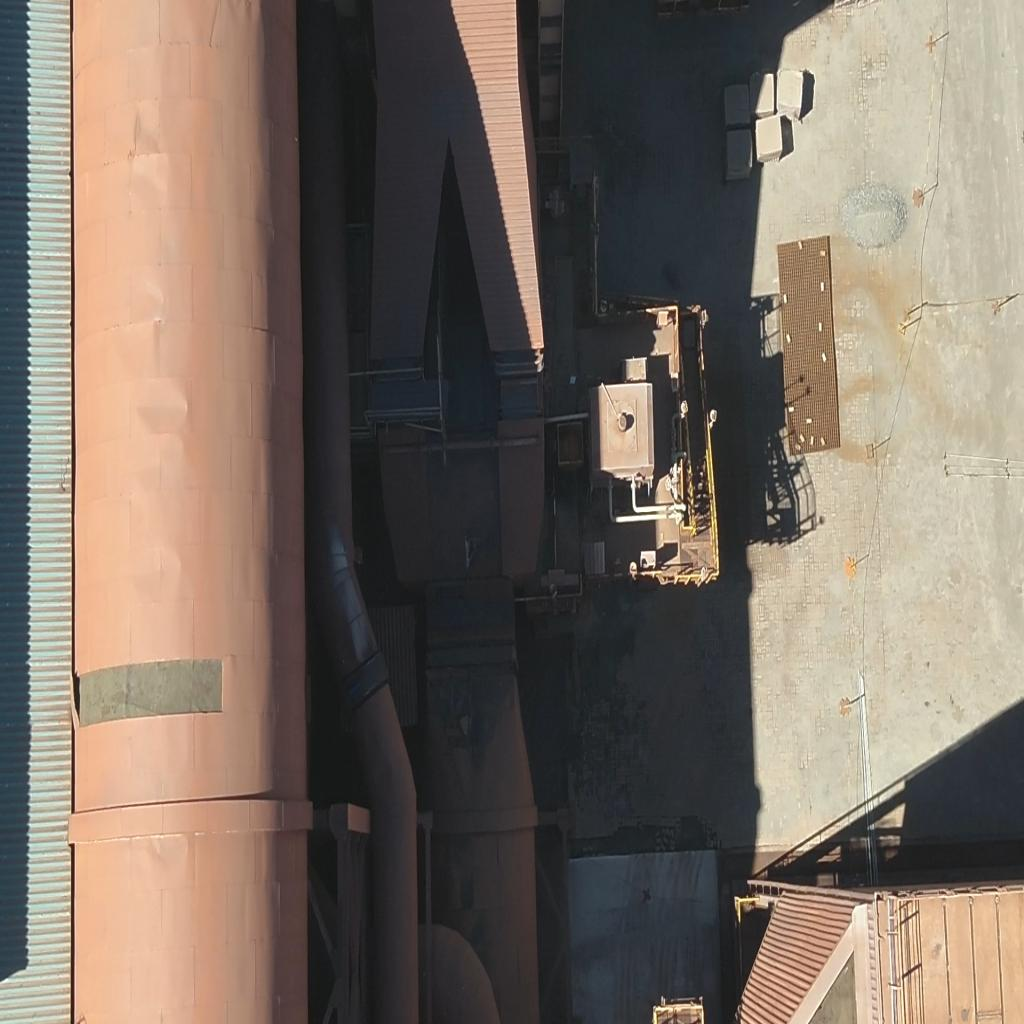Failures: (70, 654, 236, 736)
